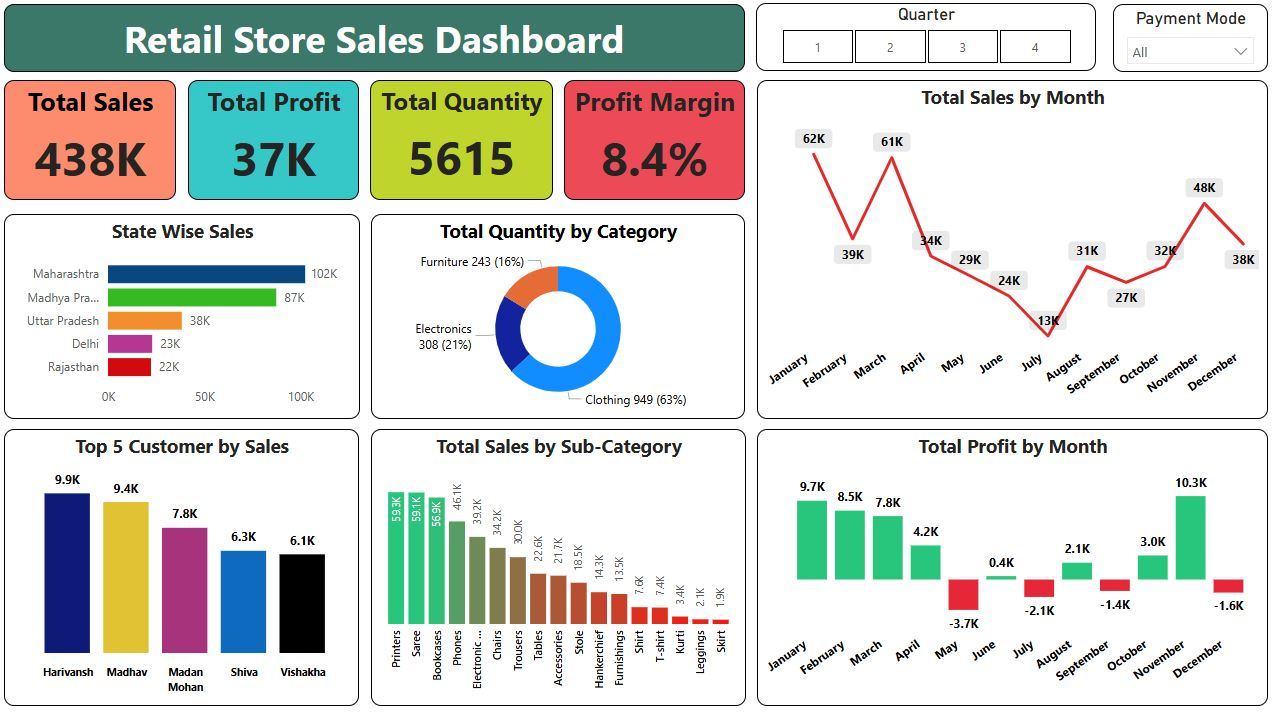

Layout of this report page (visuals, bound fields, positions):
{"tool":"powerbi","page":{"name":"Page 1","canvas":[1280,720],"ordinal":0},"visuals":[{"type":"card","title":"Total Sales","fields":{"Values":["_Measure.Total Sales"]},"box":[7.7,85.5,172.7,119.1],"z":0},{"type":"card","title":"Total Profit","fields":{"Values":["_Measure.Total Profit"]},"box":[191.8,85.5,170.9,119.1],"z":1000},{"type":"card","title":"Total Quantity","fields":{"Values":["_Measure.Total Quantity"]},"box":[374.1,85.5,182.7,119.1],"z":2000},{"type":"donutChart","title":"Total Quantity by Category","fields":{"Category":["Details.Category"],"Y":["Details.Amount"]},"box":[374.5,219.1,374.5,204.5],"z":3000},{"type":"lineChart","title":"Total Sales by Month","fields":{"Y":["Details.Amount"],"Category":["Orders.Month Name"]},"box":[760.9,85.5,510.9,338.2],"z":4000},{"type":"card","title":"Profit Margin","fields":{"Values":["_Measure.Profit Margin"]},"box":[568.2,85.5,180.9,119.1],"z":5000},{"type":"columnChart","title":"Top 5 Customer by Sales","fields":{"Category":["Orders.CustomerName"],"Y":["_Measure.Top 5 Customer"]},"box":[8,434,355,277],"z":6000},{"type":"columnChart","title":"Total Profit by Month","fields":{"Category":["Orders.Month Name"],"Y":["_Measure.Total Profit"]},"box":[760.9,433.6,510.9,277.3],"z":7000},{"type":"clusteredBarChart","title":"State Wise Sales","fields":{"Category":["Orders.State"],"Y":["_Measure.Top 10 Sales"]},"box":[8.2,219.1,355.5,204.5],"z":8000},{"type":"slicer","title":"Payment Mode","fields":{"Values":["Details.PaymentMode"]},"box":[1117.2,8.9,155.2,68.3],"z":9000},{"type":"slicer","title":"Quarter","fields":{"Values":["Orders.Quarter"]},"box":[760,8,340.5,68.3],"z":10000},{"type":"columnChart","title":"Total Sales by Sub-Category","fields":{"Category":["Details.Sub-Category"],"Y":["Details.Amount"]},"box":[375,434,375,277],"z":11000},{"type":"textbox","box":[8,8.9,741.3,68.3],"z":13000}]}

Visuals, with their boxes in screenshot pixels (x1, y1, x2, y2), scaled from the page's 1280x720 canvas onto the 1274x712 screenshot:
"Total Sales" card: {"x1": 8, "y1": 85, "x2": 180, "y2": 202}
"Total Profit" card: {"x1": 191, "y1": 85, "x2": 361, "y2": 202}
"Total Quantity" card: {"x1": 372, "y1": 85, "x2": 554, "y2": 202}
"Total Quantity by Category" donutChart: {"x1": 373, "y1": 217, "x2": 745, "y2": 419}
"Total Sales by Month" lineChart: {"x1": 757, "y1": 85, "x2": 1266, "y2": 419}
"Profit Margin" card: {"x1": 566, "y1": 85, "x2": 746, "y2": 202}
"Top 5 Customer by Sales" columnChart: {"x1": 8, "y1": 429, "x2": 361, "y2": 703}
"Total Profit by Month" columnChart: {"x1": 757, "y1": 429, "x2": 1266, "y2": 703}
"State Wise Sales" clusteredBarChart: {"x1": 8, "y1": 217, "x2": 362, "y2": 419}
"Payment Mode" slicer: {"x1": 1112, "y1": 9, "x2": 1266, "y2": 76}
"Quarter" slicer: {"x1": 756, "y1": 8, "x2": 1095, "y2": 75}
"Total Sales by Sub-Category" columnChart: {"x1": 373, "y1": 429, "x2": 746, "y2": 703}
textbox: {"x1": 8, "y1": 9, "x2": 746, "y2": 76}
